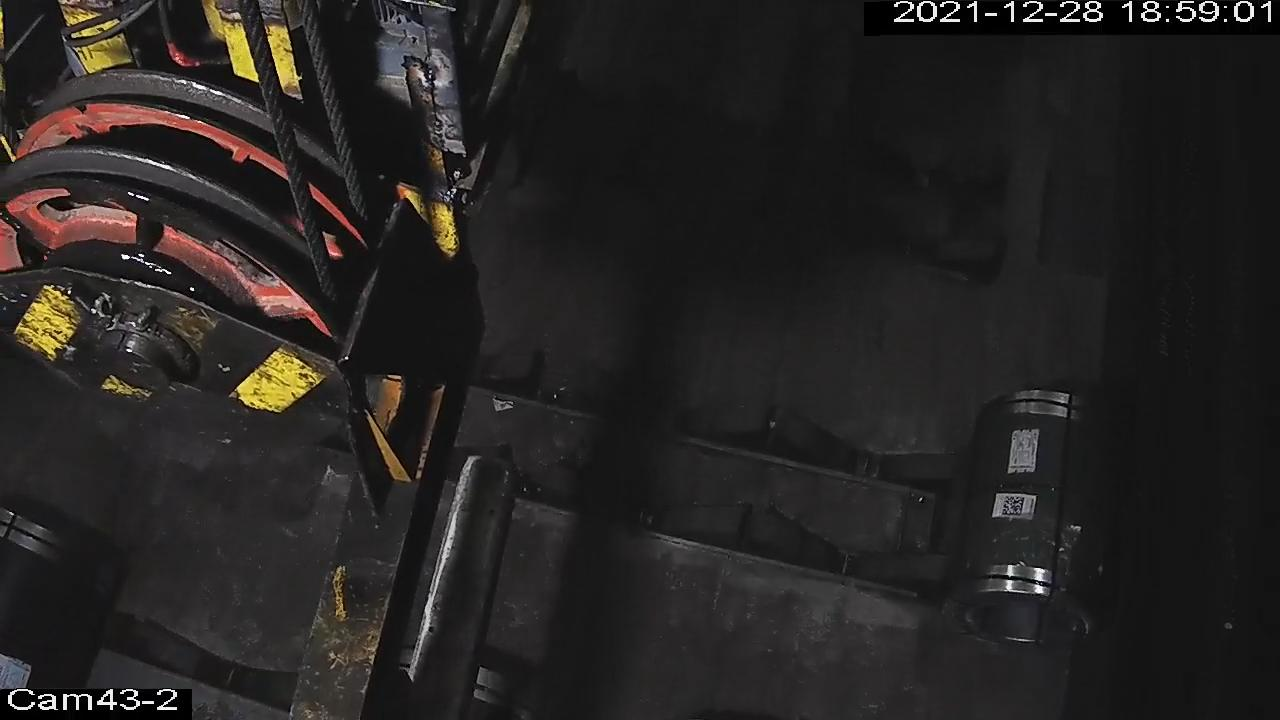data matrix: (1000, 494, 1029, 519)
